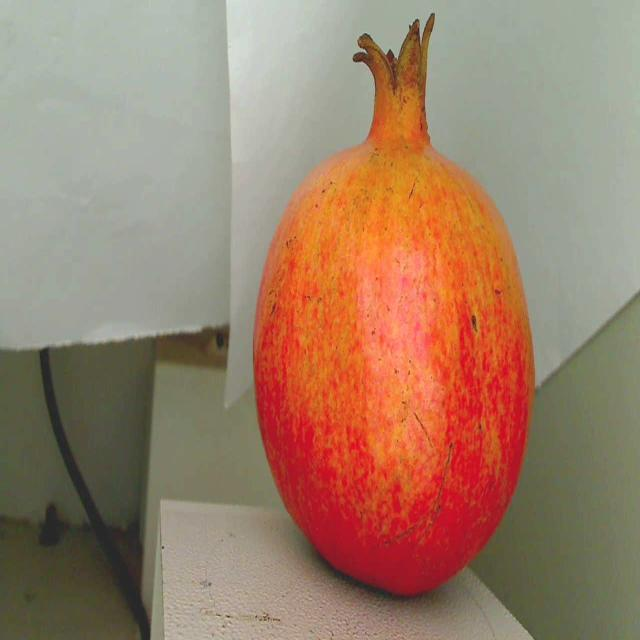pomegranate: (232, 0, 555, 591)
